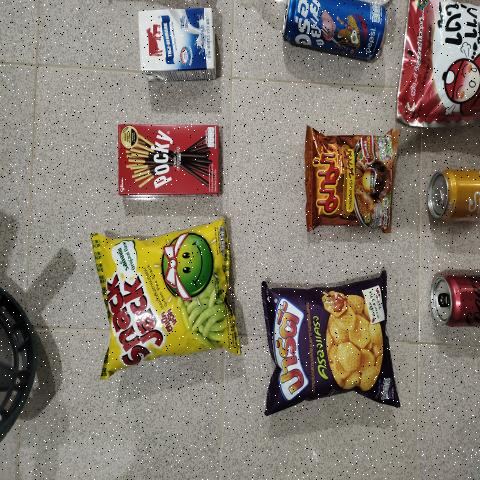mama: (308, 133, 391, 216)
party_purple: (270, 295, 396, 395)
pepsi_blue: (282, 0, 385, 69)
pokki: (120, 128, 219, 190)
snack_jack: (100, 235, 237, 361)
thai_denmark: (144, 8, 212, 84)
